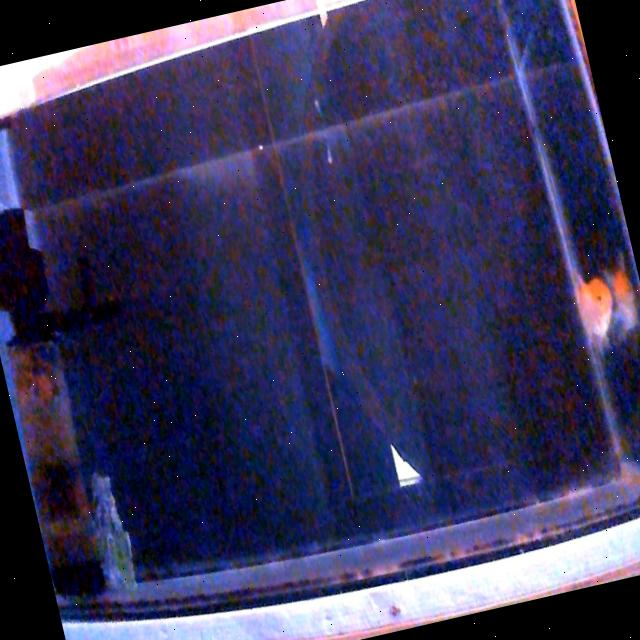fish: (573, 272, 620, 340), (604, 258, 640, 336)
